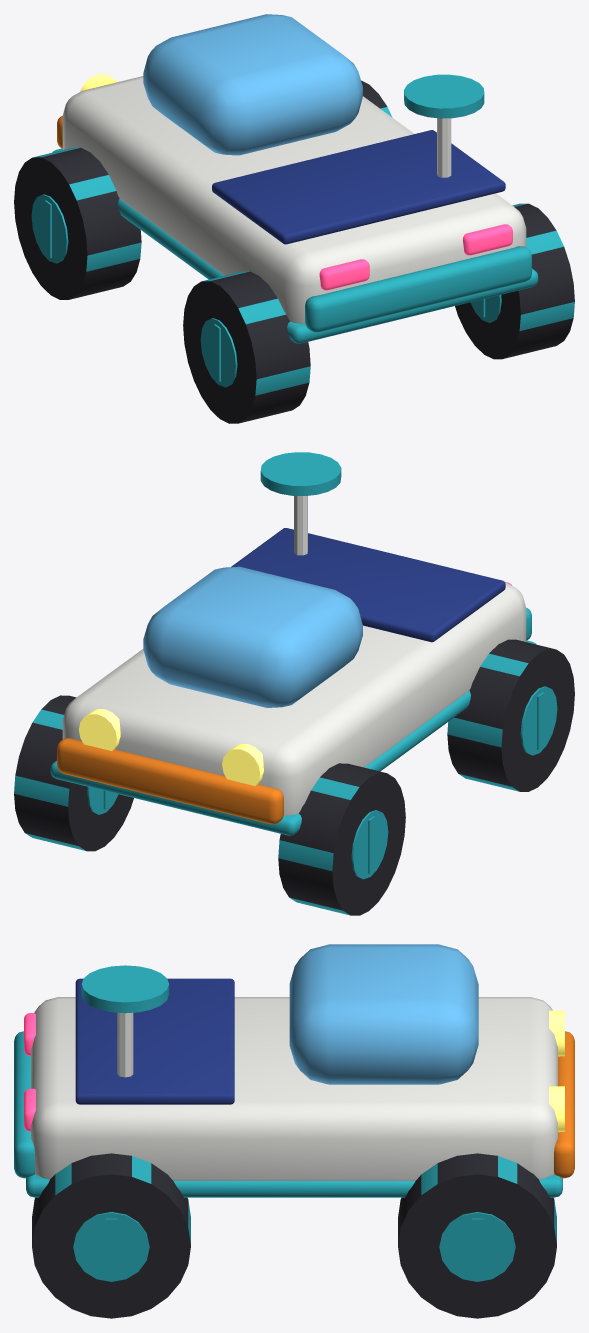
The model's file is rover.glb.
3 views of the same model, one above another, from view 1: azimuth 30°, elevation 25°; view 2: azimuth 150°, elevation 25°; view 3: azimuth 270°, elevation 25° (orthographic). The views are drawn at different scales.
Parts seen in each view (by area): view 1: body, wheel_RL, wheel_FL, wheel_RR; view 2: body, wheel_FL, wheel_RL, wheel_FR; view 3: body, wheel_FR, wheel_RR.
Part boxes in pixels (box(x1,y1,x2,y2)): body: box(52, 14, 538, 343); wheel_RL: box(183, 271, 310, 423); wheel_FL: box(14, 147, 141, 299); wheel_RR: box(455, 203, 574, 359); body: box(50, 452, 536, 835); wheel_FL: box(278, 763, 405, 915); wheel_RL: box(447, 639, 574, 791); wheel_FR: box(14, 695, 133, 851); body: box(14, 944, 574, 1197); wheel_FR: box(398, 1153, 556, 1318); wheel_RR: box(32, 1153, 190, 1318).
Bounding box in the file's own units: 2.04 × 1.6 × 2.82.
